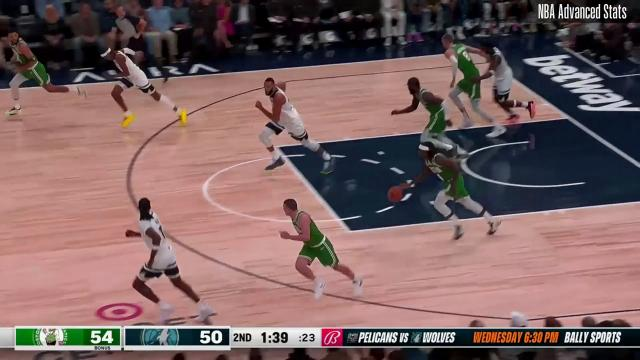free_adx: (344, 223, 358, 237)
free_asx: (268, 142, 286, 154)
free_bdx: (558, 110, 576, 126)
team: (397, 146, 503, 238), (280, 200, 362, 296), (1, 30, 88, 118), (444, 31, 504, 137), (392, 82, 468, 160)
team1: (124, 196, 218, 326), (254, 77, 338, 178), (98, 42, 188, 126), (472, 39, 536, 125)
timer: (258, 328, 290, 346)
